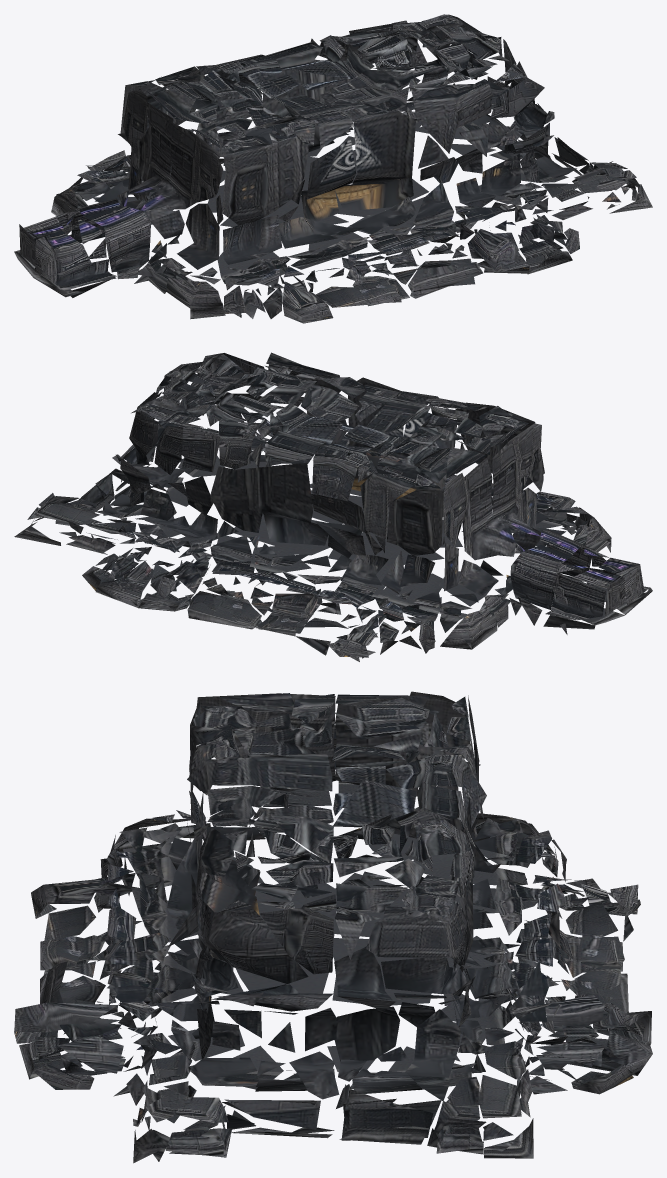
Rendered from s12IndustrialComplex_LOD2.glb.
3 renders of one model, top to bottom at view 1: azimuth 30°, elevation 25°; view 2: azimuth 150°, elevation 25°; view 3: azimuth 270°, elevation 25°, orthographic. The views are drawn at different scales.
Parts seen in each view (by area): view 1: Mesh_0.004; view 2: Mesh_0.004; view 3: Mesh_0.004.
Boxes of the visible parts, <box> form: Mesh_0.004: <box>14,14,652,323</box>; Mesh_0.004: <box>14,352,652,661</box>; Mesh_0.004: <box>14,691,652,1163</box>.
Size of the model in its own units: 1.89 by 0.5139 by 1.36.
Materials: 1 (1 with a texture image).
